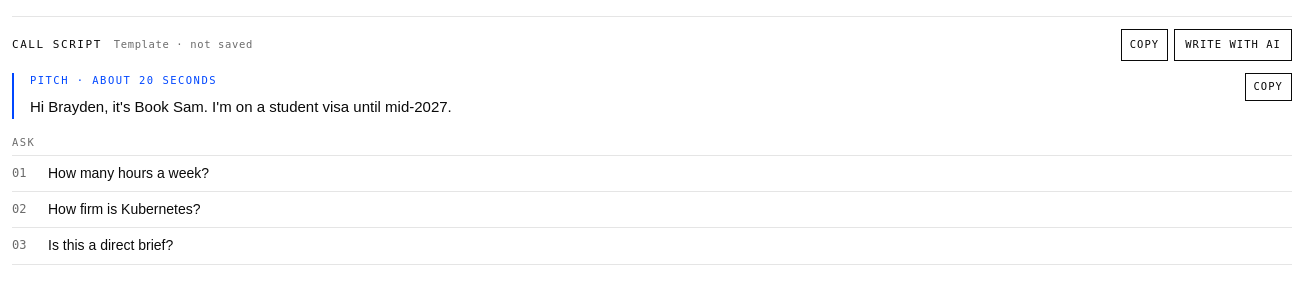
Test: CallScript › shows the template preview, then writes with AI
Later steps or results of the test are not shown.
Expected: the text "Hi Brayden, it's Book Sam. I'm on a student visa until mid-2027." is shown, left=30, top=95, right=452, bottom=119
Expected: the text "Template · not saved" is shown, left=114, top=38, right=253, bottom=50
Click the button "Write with AI" at (1233, 45), box left=1174, top=29, right=1292, bottom=61
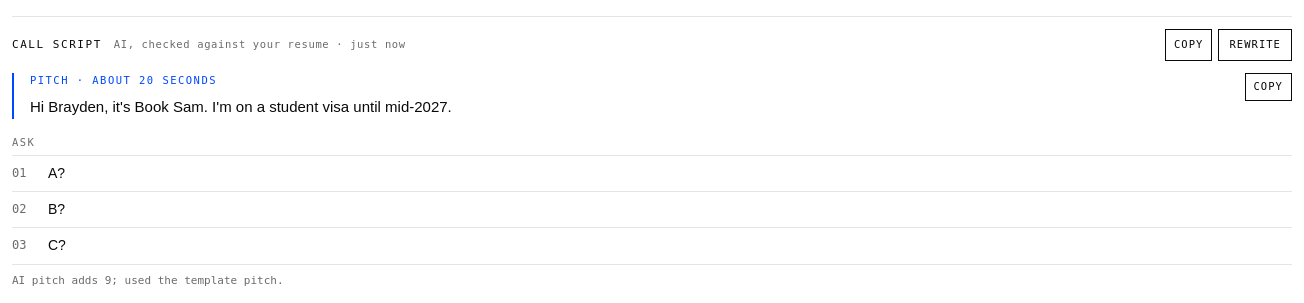
Expected: the text "A?" is shown, left=48, top=165, right=65, bottom=181
Result: the text "AI, checked against your resume · just now" is shown at left=114, top=38, right=406, bottom=50
Result: the list item "AI pitch adds 9; used the template pitch." is shown at left=12, top=274, right=284, bottom=287
